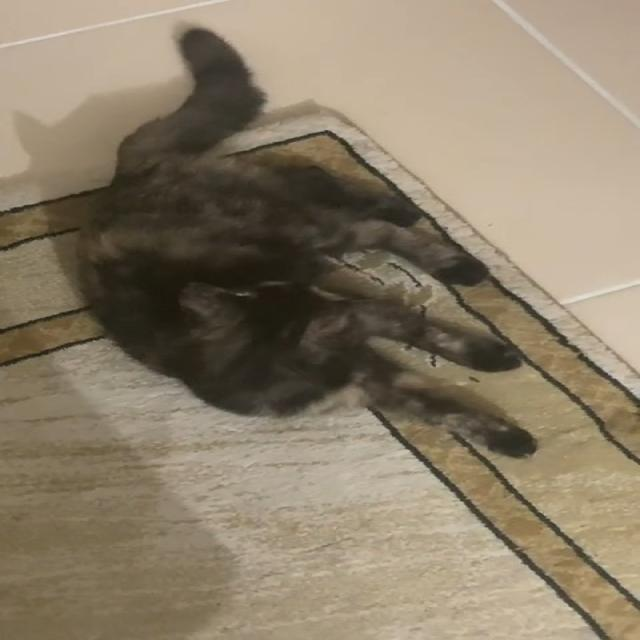authorized: (73, 22, 539, 459)
